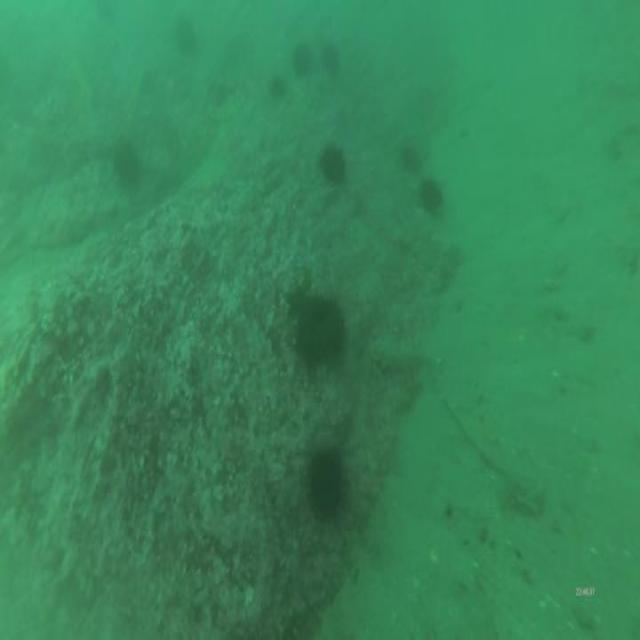echinus: (291, 283, 352, 374), (305, 438, 349, 526), (106, 133, 145, 191), (317, 136, 348, 194), (171, 14, 201, 63), (416, 172, 445, 220), (399, 139, 427, 182), (290, 38, 316, 82), (318, 40, 341, 84), (268, 66, 288, 103)
holothurian: (204, 80, 247, 130)
